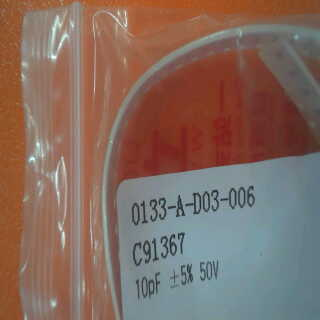10pF: (134, 268, 167, 302)
